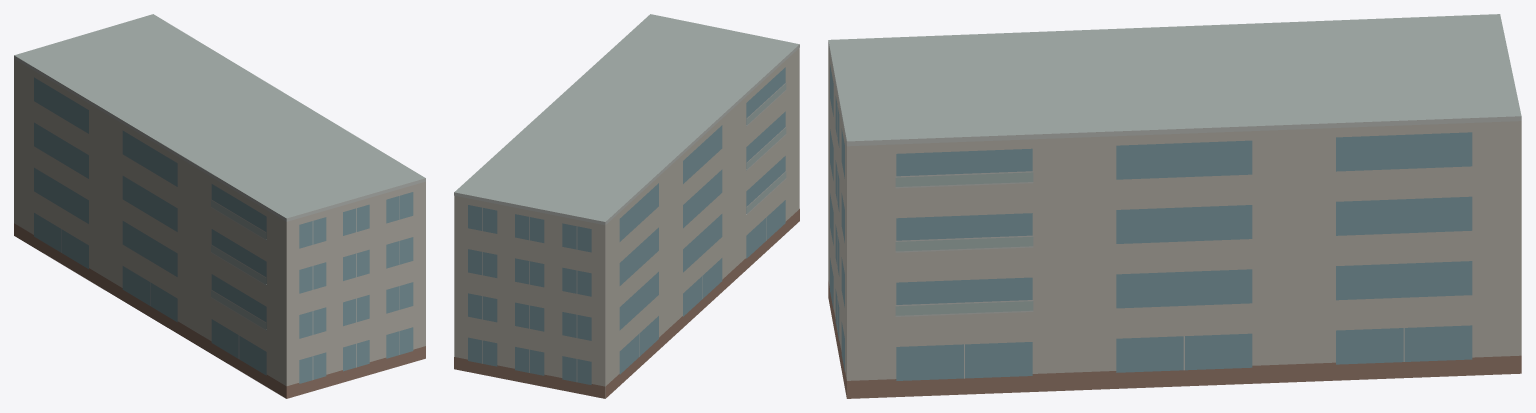
File: survey-upis-32610630.glb
3 renders of one model, left to right at view 1: azimuth 30°, elevation 25°; view 2: azimuth 150°, elevation 25°; view 3: azimuth 270°, elevation 25°, orthographic. The views are drawn at different scales.
Visible parts, largest first — view 1: survey-upis-32610630.tmp; view 2: survey-upis-32610630.tmp; view 3: survey-upis-32610630.tmp.
Boxes of the visible parts, bbox=[...] form: survey-upis-32610630.tmp: bbox=[14, 14, 425, 398]; survey-upis-32610630.tmp: bbox=[454, 14, 799, 398]; survey-upis-32610630.tmp: bbox=[828, 14, 1521, 398].
Bounding box in the file's own units: 13.81 × 13 × 31.73.
